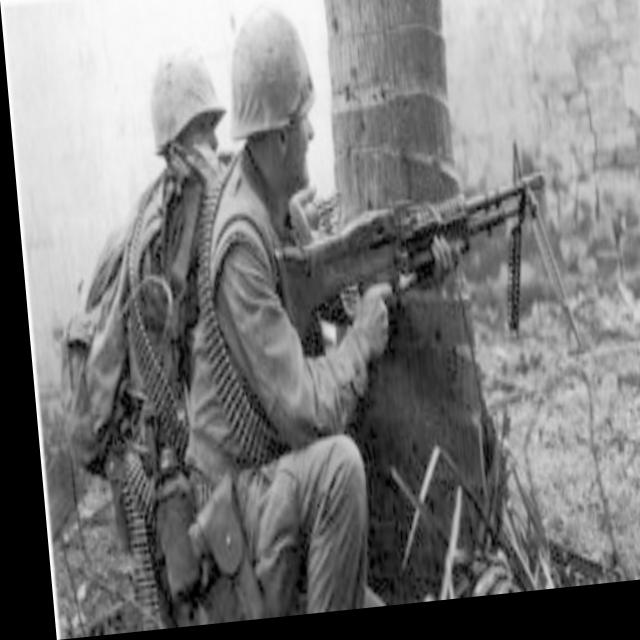other: (206, 18, 367, 617), (90, 50, 244, 470)
